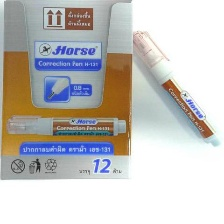book: (0, 0, 136, 183)
correction_fluid: (127, 29, 224, 150)
